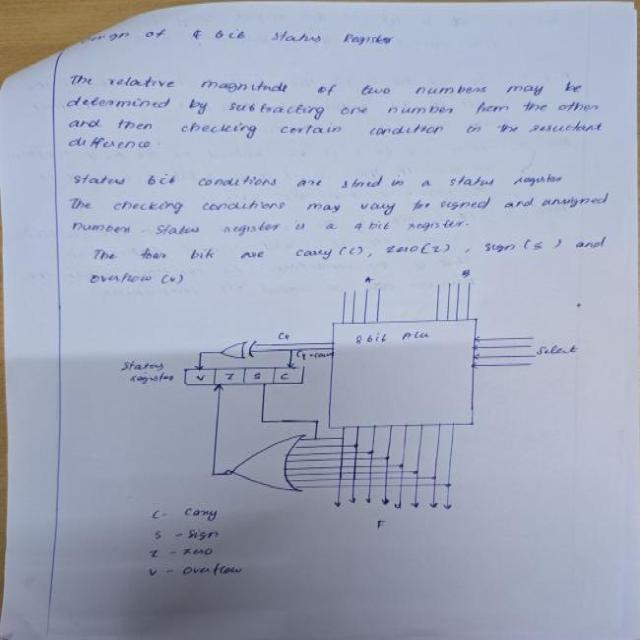Figure Detection - v3 Dataset Version2: (105, 273, 590, 528)
